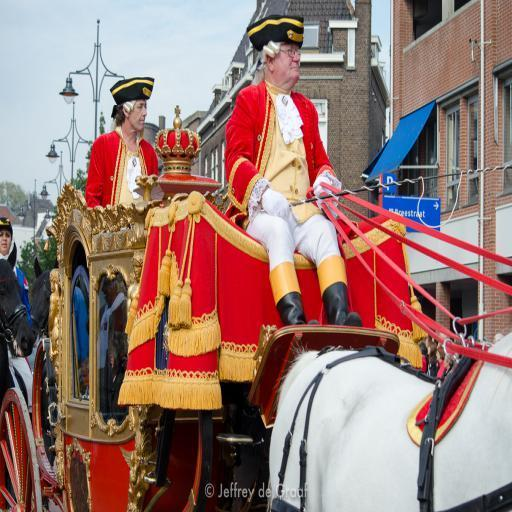horse: (267, 330, 512, 512), (27, 252, 58, 512), (0, 242, 29, 409), (28, 255, 62, 338)
